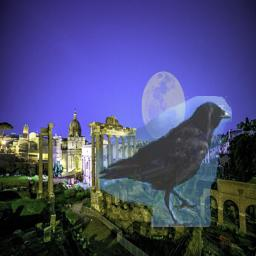Crow: (96, 97, 232, 228)
